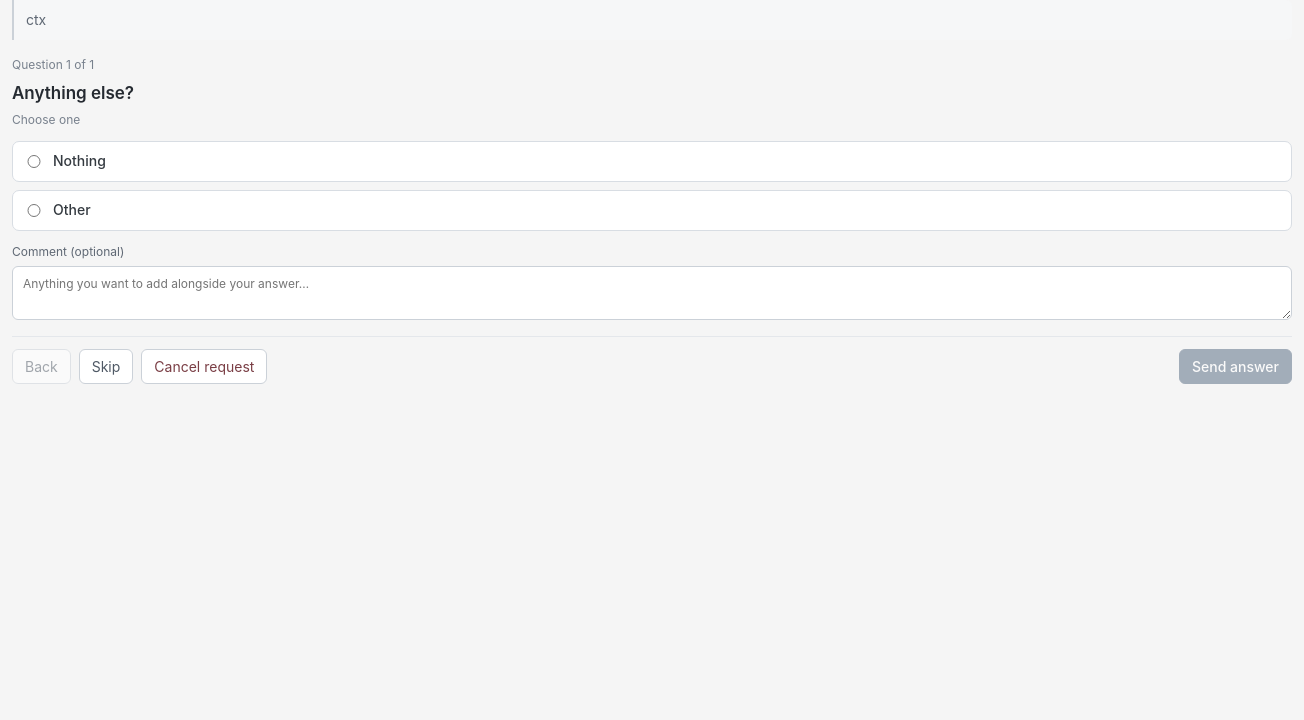
Test: QuestionRich — Other and Skip › typing Other text (without selecting a normal option) enables submit
The image size is (1304, 720).
Expected: the button with test id "question-submit" is disabled, [1179,349,1292,384]
Click the radio button labelled "Other" at point(34, 211), box [25,204,43,217]
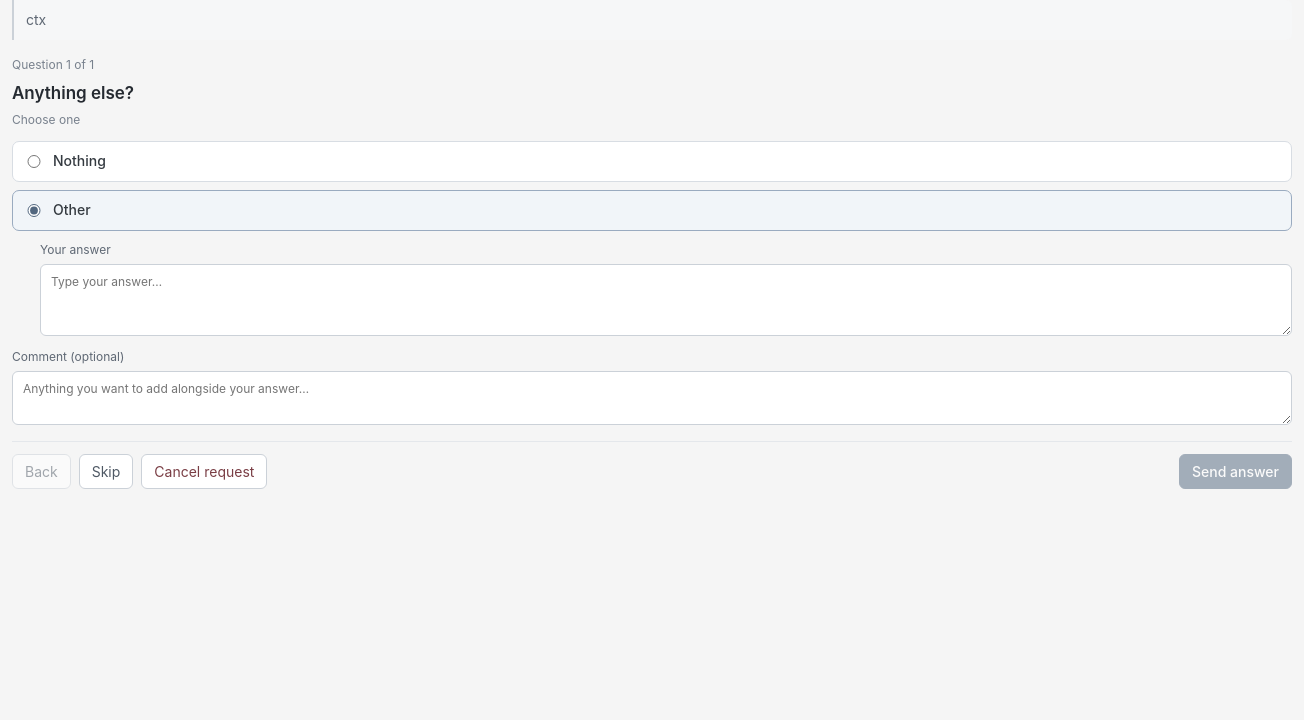
Type "Something specific" into the text box with test id "question-other-text" at point(666, 300), box [40,264,1292,336]
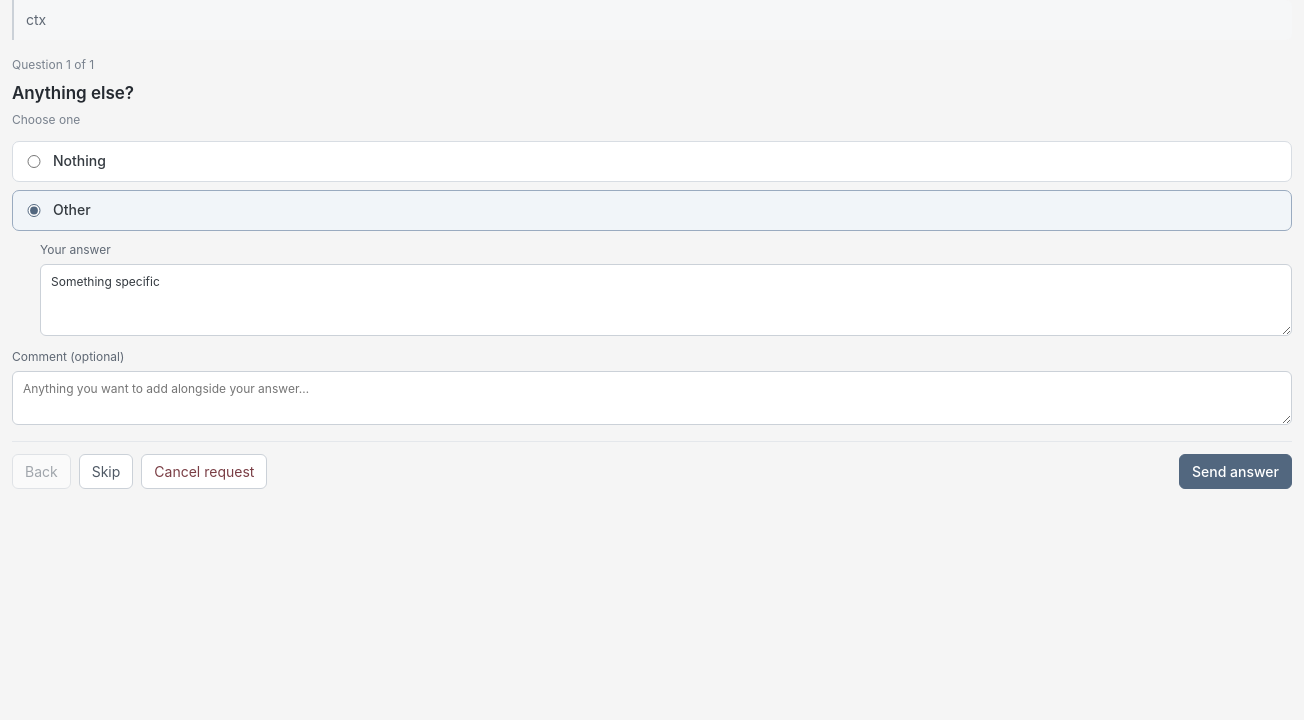
Now the button with test id "question-submit" is enabled, box [1179,454,1292,489]
